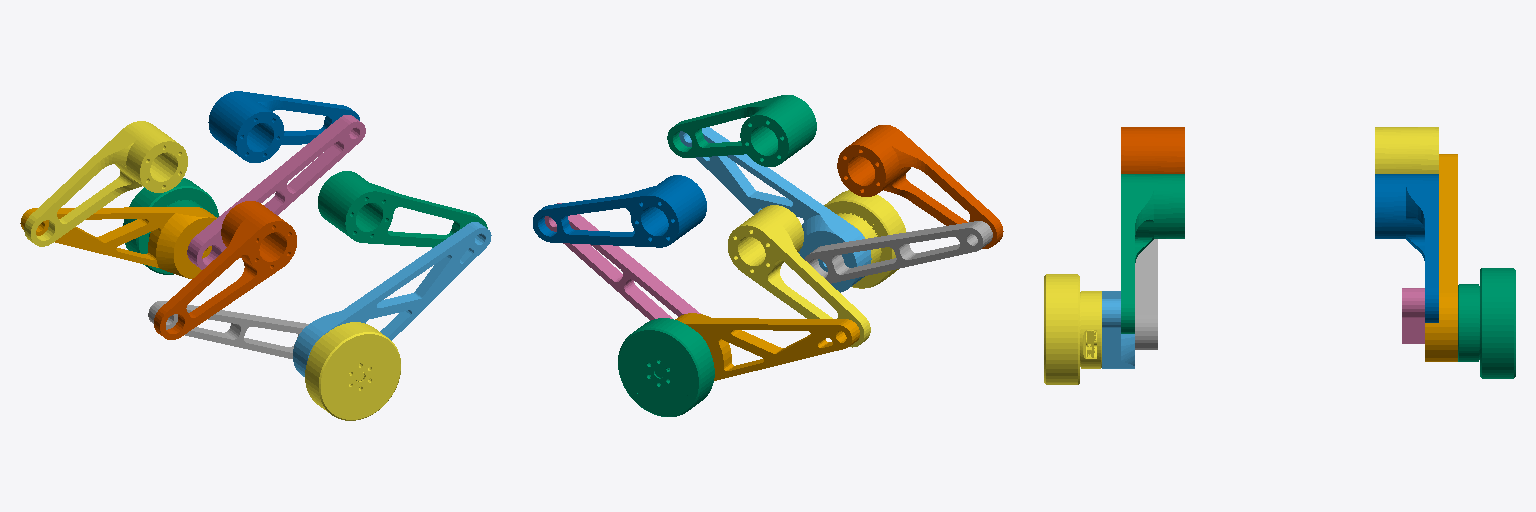
robot.urdf — wheel_leg_robot:
<?xml version="1.0"?>
<robot name="wheel_leg_robot">

  <link name="world"/>

  <link name="base_link">
    <visual>
      <origin xyz="0 0 0" rpy="0 1.5708 0"/>
      <geometry>
        <mesh filename="package://wheel_leg_description/meshes/visual/shell_and_big_motor.stl"
              scale="0.001 0.001 0.001"/>
      </geometry>
      <material name="base_gray">
        <color rgba="0.65 0.65 0.65 1"/>
      </material>
    </visual>
  </link>

  <joint name="world_to_base" type="fixed">
    <parent link="world"/>
    <child link="base_link"/>
    <origin xyz="0 0 0" rpy="0 0 0"/>
  </joint>


  <!-- big_arm_1 -->
  <link name="big_arm_1_link">
    <visual>
      <origin xyz="-0.231306 -0.053564 -0.030643" rpy="0 1.5708 0"/>
      <geometry>
        <mesh filename="package://wheel_leg_description/meshes/visual/big_arm_1.stl"
              scale="0.001 0.001 0.001"/>
      </geometry>
    </visual>
  </link>

  <joint name="big_arm_1_joint" type="revolute">
    <parent link="base_link"/>
    <child link="big_arm_1_link"/>
    <origin xyz="0.231306 0.053564 0.030643" rpy="0 0 0"/>
    <axis xyz="0 1 0"/>
    <limit lower="-1.57" upper="1.57" effort="20" velocity="10"/>
  </joint>


  <!-- big_arm_2 -->
  <link name="big_arm_2_link">
    <visual>
      <origin xyz="-0.161440 -0.053564 -0.026313" rpy="0 1.5708 0"/>
      <geometry>
        <mesh filename="package://wheel_leg_description/meshes/visual/big_arm_2.stl"
              scale="0.001 0.001 0.001"/>
      </geometry>
    </visual>
  </link>

  <joint name="big_arm_2_joint" type="revolute">
    <parent link="base_link"/>
    <child link="big_arm_2_link"/>
    <origin xyz="0.161440 0.053564 0.026313" rpy="0 0 0"/>
    <axis xyz="0 1 0"/>
    <limit lower="-1.57" upper="1.57" effort="20" velocity="10"/>
  </joint>


  <!-- big_arm_3 -->
  <link name="big_arm_3_link">
    <visual>
      <origin xyz="-0.231306 0.048436 -0.030643" rpy="0 1.5708 0"/>
      <geometry>
        <mesh filename="package://wheel_leg_description/meshes/visual/big_arm_3.stl"
              scale="0.001 0.001 0.001"/>
      </geometry>
    </visual>
  </link>

  <joint name="big_arm_3_joint" type="revolute">
    <parent link="base_link"/>
    <child link="big_arm_3_link"/>
    <origin xyz="0.231306 -0.048436 0.030643" rpy="0 0 0"/>
    <axis xyz="0 1 0"/>
    <limit lower="-1.57" upper="1.57" effort="20" velocity="10"/>
  </joint>


  <!-- big_arm_4 -->
  <link name="big_arm_4_link">
    <visual>
      <origin xyz="-0.161440 0.048436 -0.026313" rpy="0 1.5708 0"/>
      <geometry>
        <mesh filename="package://wheel_leg_description/meshes/visual/big_arm_4.stl"
              scale="0.001 0.001 0.001"/>
      </geometry>
    </visual>
  </link>

  <joint name="big_arm_4_joint" type="revolute">
    <parent link="base_link"/>
    <child link="big_arm_4_link"/>
    <origin xyz="0.161440 -0.048436 0.026313" rpy="0 0 0"/>
    <axis xyz="0 1 0"/>
    <limit lower="-1.57" upper="1.57" effort="20" velocity="10"/>
  </joint>


  <!-- small leg and wheel parts are fixed temporarily -->
  <link name="small_leggy_1_link">
    <visual>
      <origin xyz="0 0 0" rpy="0 1.5708 0"/>
      <geometry>
        <mesh filename="package://wheel_leg_description/meshes/visual/small_leggy_1.stl"
              scale="0.001 0.001 0.001"/>
      </geometry>
    </visual>
  </link>

  <joint name="base_to_small_leggy_1" type="fixed">
    <parent link="base_link"/>
    <child link="small_leggy_1_link"/>
    <origin xyz="0 0 0" rpy="0 0 0"/>
  </joint>


  <link name="small_leggy_2_link">
    <visual>
      <origin xyz="0 0 0" rpy="0 1.5708 0"/>
      <geometry>
        <mesh filename="package://wheel_leg_description/meshes/visual/small_leggy_2.stl"
              scale="0.001 0.001 0.001"/>
      </geometry>
    </visual>
  </link>

  <joint name="base_to_small_leggy_2" type="fixed">
    <parent link="base_link"/>
    <child link="small_leggy_2_link"/>
    <origin xyz="0 0 0" rpy="0 0 0"/>
  </joint>


  <link name="small_leg_wheel_1_link">
    <visual>
      <origin xyz="0 0 0" rpy="0 1.5708 0"/>
      <geometry>
        <mesh filename="package://wheel_leg_description/meshes/visual/small_leg_wheel_1.stl"
              scale="0.001 0.001 0.001"/>
      </geometry>
    </visual>
  </link>

  <joint name="base_to_small_leg_wheel_1" type="fixed">
    <parent link="base_link"/>
    <child link="small_leg_wheel_1_link"/>
    <origin xyz="0 0 0" rpy="0 0 0"/>
  </joint>


  <link name="small_leg_wheel_2_link">
    <visual>
      <origin xyz="0 0 0" rpy="0 1.5708 0"/>
      <geometry>
        <mesh filename="package://wheel_leg_description/meshes/visual/small_leg_wheel_2.stl"
              scale="0.001 0.001 0.001"/>
      </geometry>
    </visual>
  </link>

  <joint name="base_to_small_leg_wheel_2" type="fixed">
    <parent link="base_link"/>
    <child link="small_leg_wheel_2_link"/>
    <origin xyz="0 0 0" rpy="0 0 0"/>
  </joint>


  <link name="wheel_motor_1_link">
    <visual>
      <origin xyz="0 0 0" rpy="0 1.5708 0"/>
      <geometry>
        <mesh filename="package://wheel_leg_description/meshes/visual/wheel_motor_1.stl"
              scale="0.001 0.001 0.001"/>
      </geometry>
    </visual>
  </link>

  <joint name="base_to_wheel_motor_1" type="fixed">
    <parent link="base_link"/>
    <child link="wheel_motor_1_link"/>
    <origin xyz="0 0 0" rpy="0 0 0"/>
  </joint>


  <link name="wheel_motor_2_link">
    <visual>
      <origin xyz="0 0 0" rpy="0 1.5708 0"/>
      <geometry>
        <mesh filename="package://wheel_leg_description/meshes/visual/wheel_motor_2.stl"
              scale="0.001 0.001 0.001"/>
      </geometry>
    </visual>
  </link>

  <joint name="base_to_wheel_motor_2" type="fixed">
    <parent link="base_link"/>
    <child link="wheel_motor_2_link"/>
    <origin xyz="0 0 0" rpy="0 0 0"/>
  </joint>

</robot>

--- Render facts (derived) ---
Views: 3 orthographic renders of the robot side by side, from view 1: azimuth 30°, elevation 25°; view 2: azimuth 150°, elevation 25°; view 3: azimuth 270°, elevation 25°.
Robot: wheel_leg_robot — 12 links, 11 joints (4 revolute, 7 fixed); root link world; default pose: all joints at 0.
Visible links, largest first — view 1: big_arm_2_link, big_arm_4_link, wheel_motor_2_link, small_leg_wheel_2_link, small_leg_wheel_1_link, big_arm_1_link, big_arm_3_link, small_leggy_1_link, small_leggy_2_link, wheel_motor_1_link; view 2: wheel_motor_1_link, big_arm_4_link, big_arm_3_link, big_arm_2_link, big_arm_1_link, small_leg_wheel_2_link, small_leg_wheel_1_link, small_leggy_2_link, small_leggy_1_link, wheel_motor_2_link; view 3: wheel_motor_2_link, wheel_motor_1_link, big_arm_1_link, big_arm_3_link, small_leg_wheel_1_link, big_arm_2_link, big_arm_4_link, small_leggy_2_link, small_leg_wheel_2_link, small_leggy_1_link.
Link boxes in pixels (bbox=[...]): big_arm_2_link: bbox=[24, 121, 187, 246]; big_arm_4_link: bbox=[154, 201, 296, 339]; wheel_motor_2_link: bbox=[305, 322, 400, 420]; small_leg_wheel_2_link: bbox=[293, 222, 491, 376]; small_leg_wheel_1_link: bbox=[20, 207, 216, 278]; big_arm_1_link: bbox=[318, 171, 487, 247]; big_arm_3_link: bbox=[208, 91, 359, 162]; small_leggy_1_link: bbox=[187, 115, 365, 269]; small_leggy_2_link: bbox=[148, 301, 308, 358]; wheel_motor_1_link: bbox=[123, 178, 218, 274]; wheel_motor_1_link: bbox=[618, 318, 714, 416]; big_arm_4_link: bbox=[837, 125, 1003, 248]; big_arm_3_link: bbox=[533, 175, 706, 247]; big_arm_2_link: bbox=[728, 205, 870, 347]; big_arm_1_link: bbox=[667, 95, 816, 166]; small_leg_wheel_2_link: bbox=[679, 127, 871, 292]; small_leg_wheel_1_link: bbox=[675, 313, 859, 380]; small_leggy_2_link: bbox=[804, 221, 992, 283]; small_leggy_1_link: bbox=[544, 203, 700, 320]; wheel_motor_2_link: bbox=[824, 190, 905, 288]; wheel_motor_2_link: bbox=[1044, 274, 1101, 384]; wheel_motor_1_link: bbox=[1458, 268, 1515, 378]; big_arm_1_link: bbox=[1121, 174, 1184, 333]; big_arm_3_link: bbox=[1375, 174, 1438, 322]; small_leg_wheel_1_link: bbox=[1425, 154, 1457, 361]; big_arm_2_link: bbox=[1375, 127, 1438, 173]; big_arm_4_link: bbox=[1121, 127, 1184, 173]; small_leggy_2_link: bbox=[1135, 239, 1157, 349]; small_leg_wheel_2_link: bbox=[1102, 291, 1134, 368]; small_leggy_1_link: bbox=[1402, 288, 1424, 343].
Bounding box of the posed robot: 0.2401 × 0.254 × 0.1345 m (x, y, z).
10 mesh visuals loaded from 11 distinct referenced files (10 binary STL); not drawn: 1 (reference not matched to a file when rendering).
